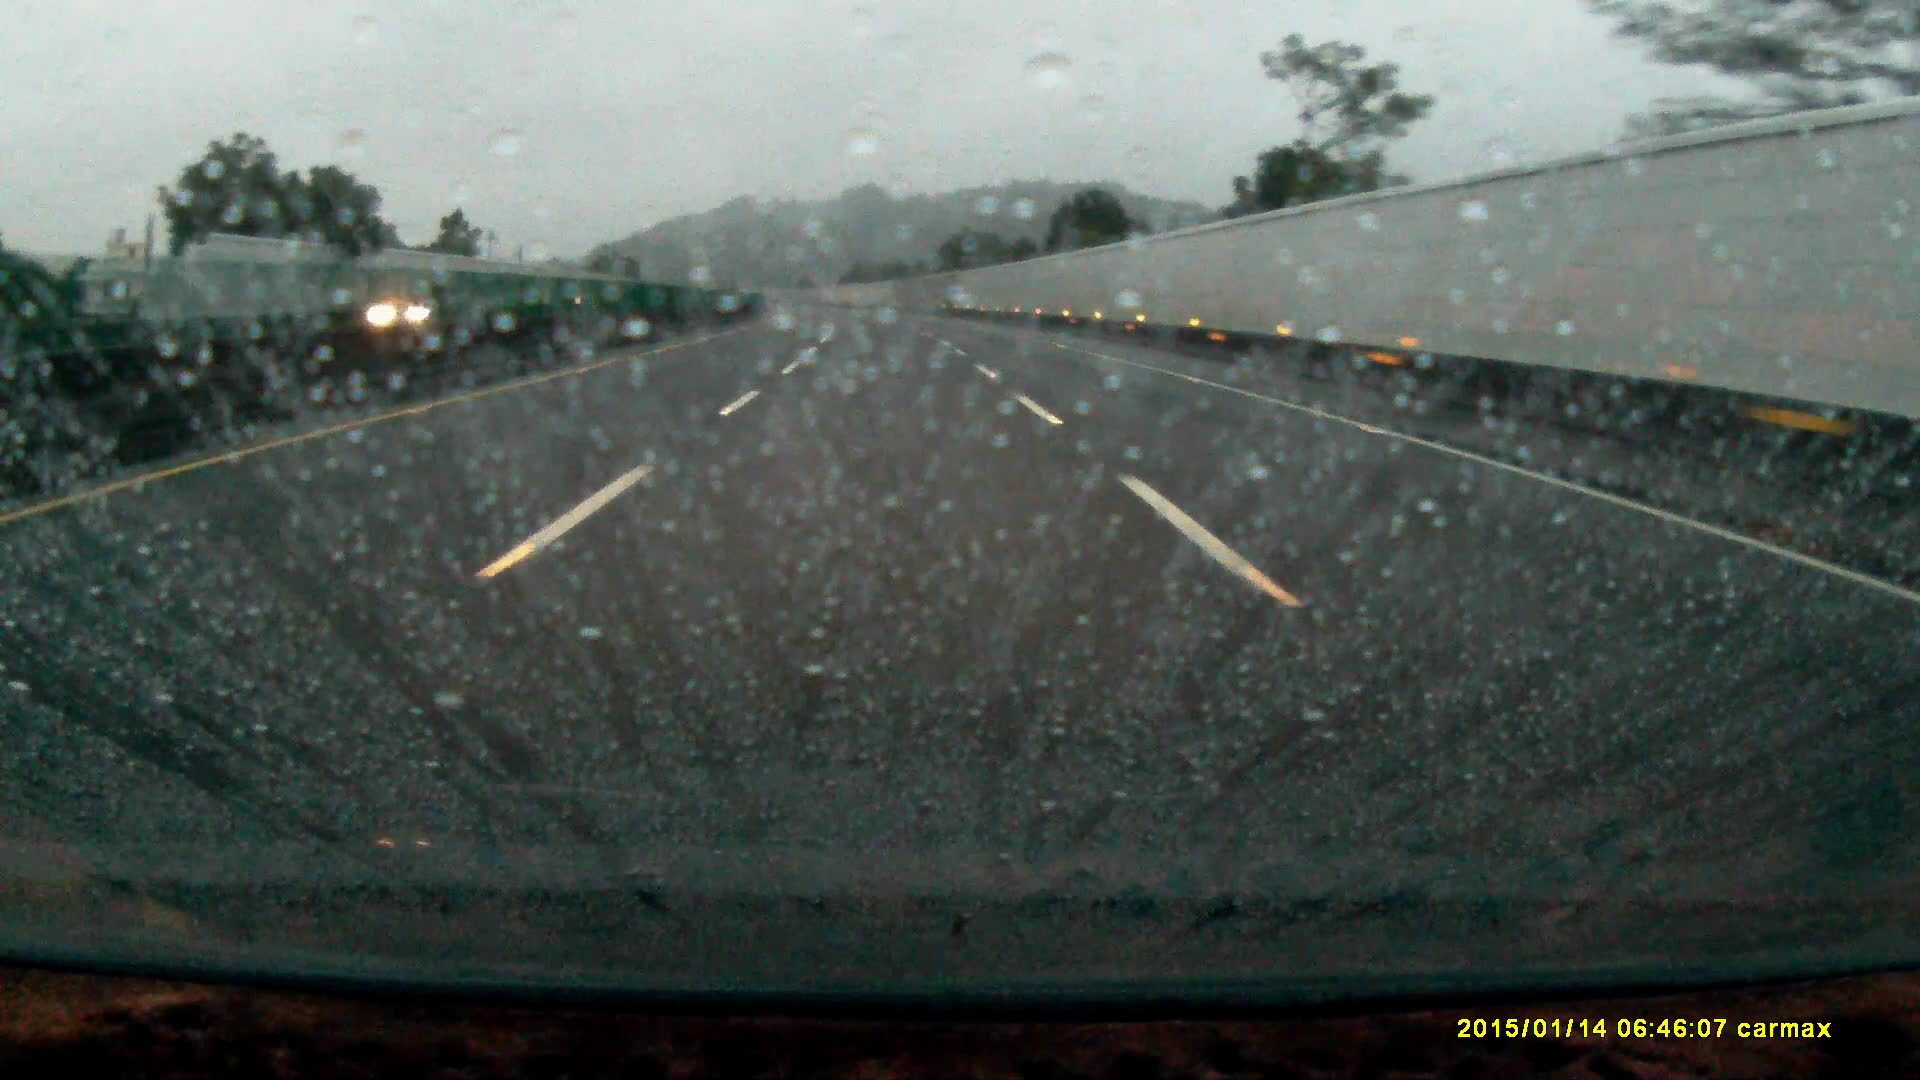vehicle: (367, 290, 450, 332)
